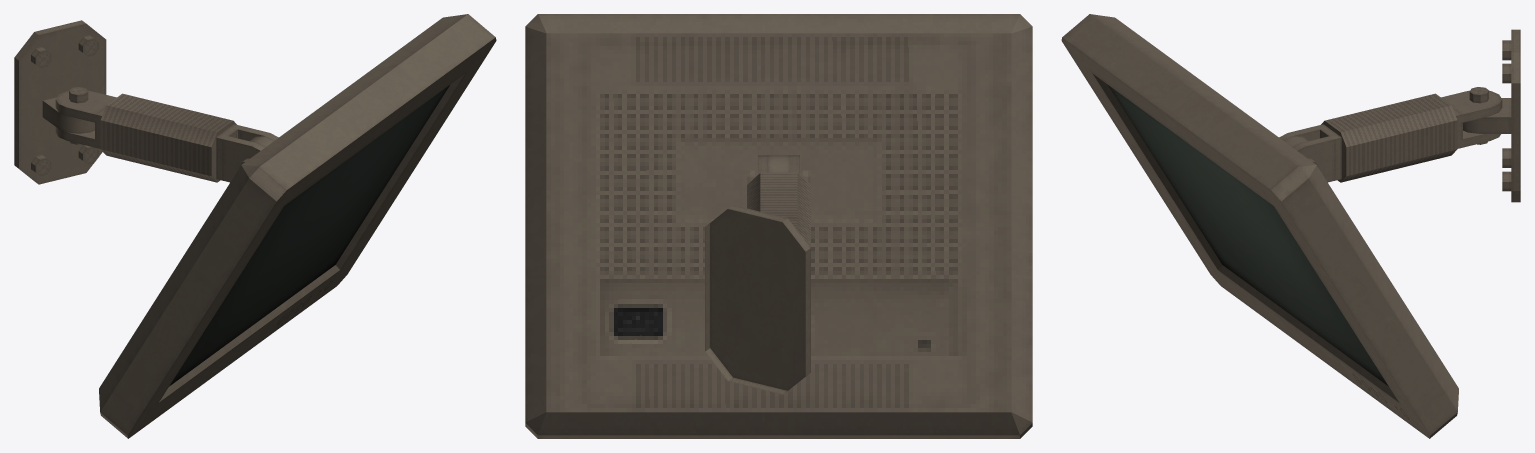
The model's file is monitoring_screen_mp_1.glb.
3 views of the same model, side by side, from view 1: azimuth 30°, elevation 25°; view 2: azimuth 150°, elevation 25°; view 3: azimuth 270°, elevation 25° (orthographic). The views are drawn at different scales.
Visible parts, largest first — view 1: monitoring_screen_mp_1_display, monitoring_screen_mp_1_arm, monitoring_screen_mp_1; view 2: monitoring_screen_mp_1_display, monitoring_screen_mp_1, monitoring_screen_mp_1_arm; view 3: monitoring_screen_mp_1_display, monitoring_screen_mp_1_arm, monitoring_screen_mp_1.
Part boxes in pixels (<box>): monitoring_screen_mp_1_display: <box>99,14,496,438</box>; monitoring_screen_mp_1_arm: <box>55,87,278,182</box>; monitoring_screen_mp_1: <box>14,20,106,184</box>; monitoring_screen_mp_1_display: <box>525,14,1032,438</box>; monitoring_screen_mp_1: <box>705,205,810,394</box>; monitoring_screen_mp_1_arm: <box>747,155,810,247</box>; monitoring_screen_mp_1_display: <box>1061,14,1458,438</box>; monitoring_screen_mp_1_arm: <box>1279,87,1502,182</box>; monitoring_screen_mp_1: <box>1463,29,1520,202</box>.
Bounding box in the file's own units: 0.527 × 0.3664 × 0.5013.
Materials: 2 (2 with a texture image).
